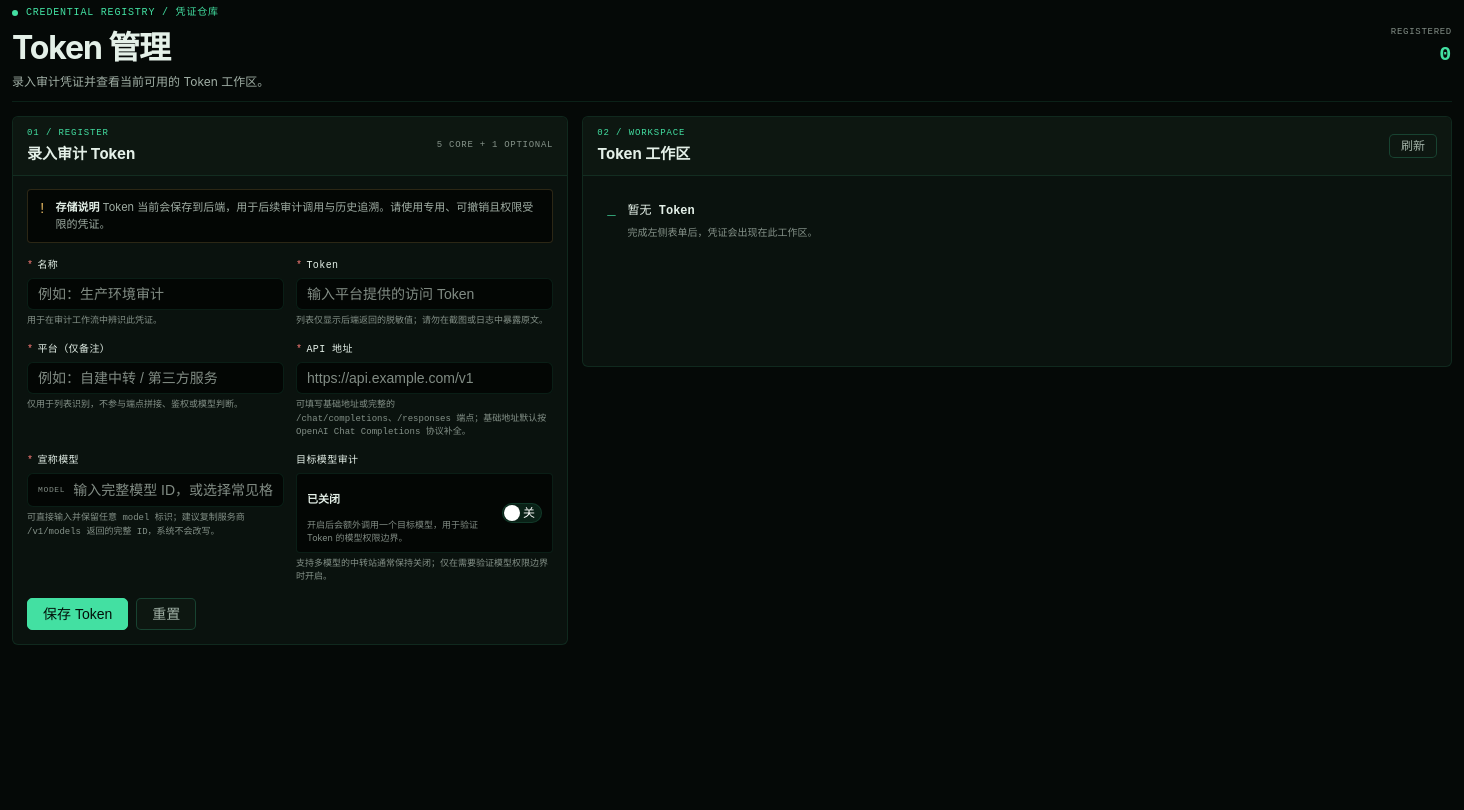
TokenManager › shows validation feedback inside the form
Click the button "保存 Token" at [78, 614], box x1=27 y1=598 x2=128 y2=630
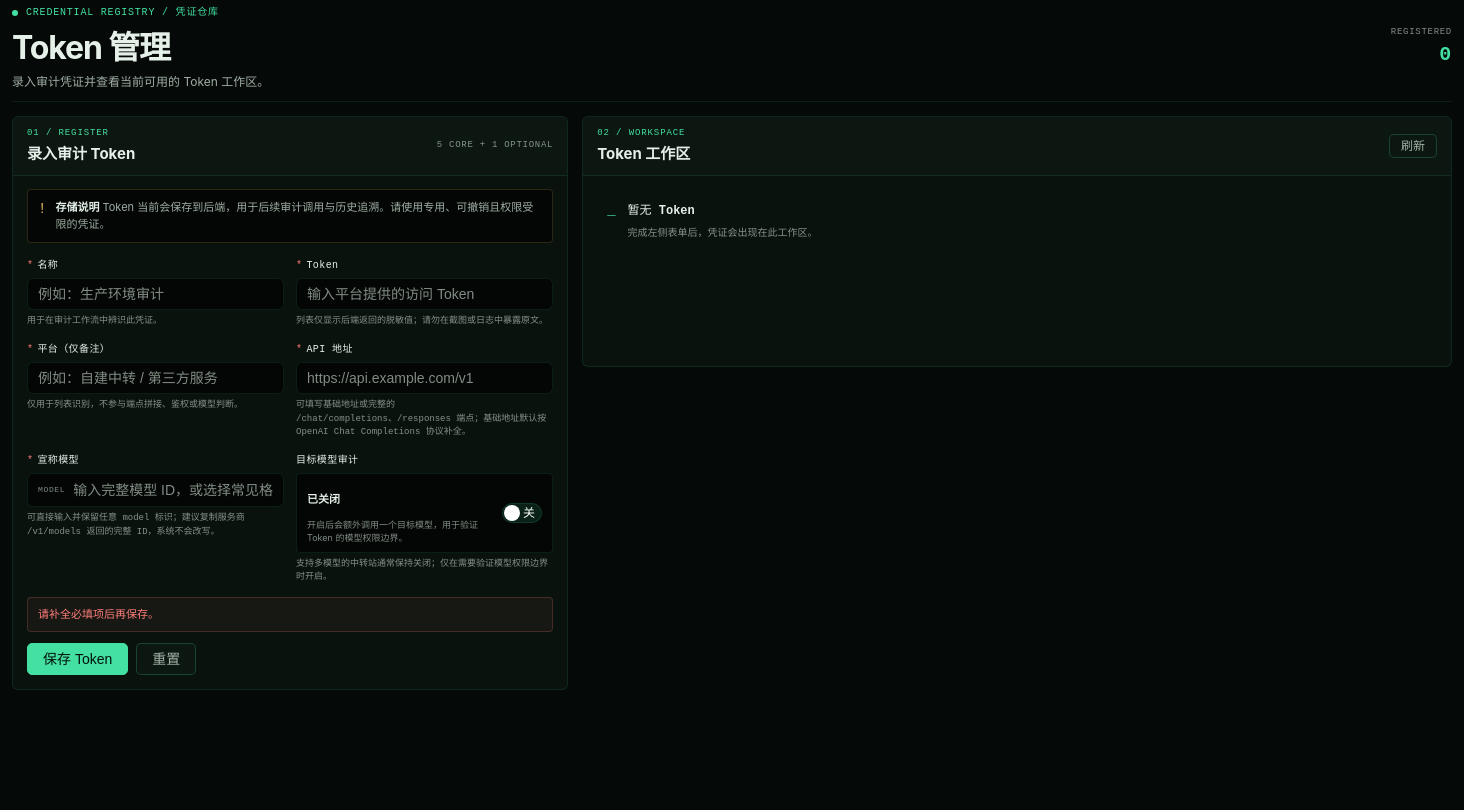
Expected: the message with test id "form-error" shows "请补全必填项", x1=38 y1=608 x2=159 y2=622
